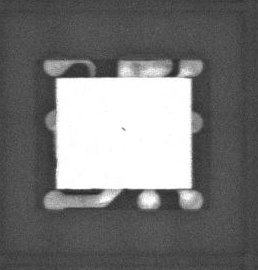DIE_INK: (115, 132, 120, 137)
